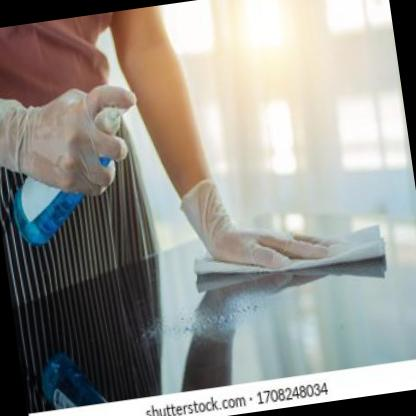Gloves: (176, 162, 349, 281), (0, 79, 148, 209)
